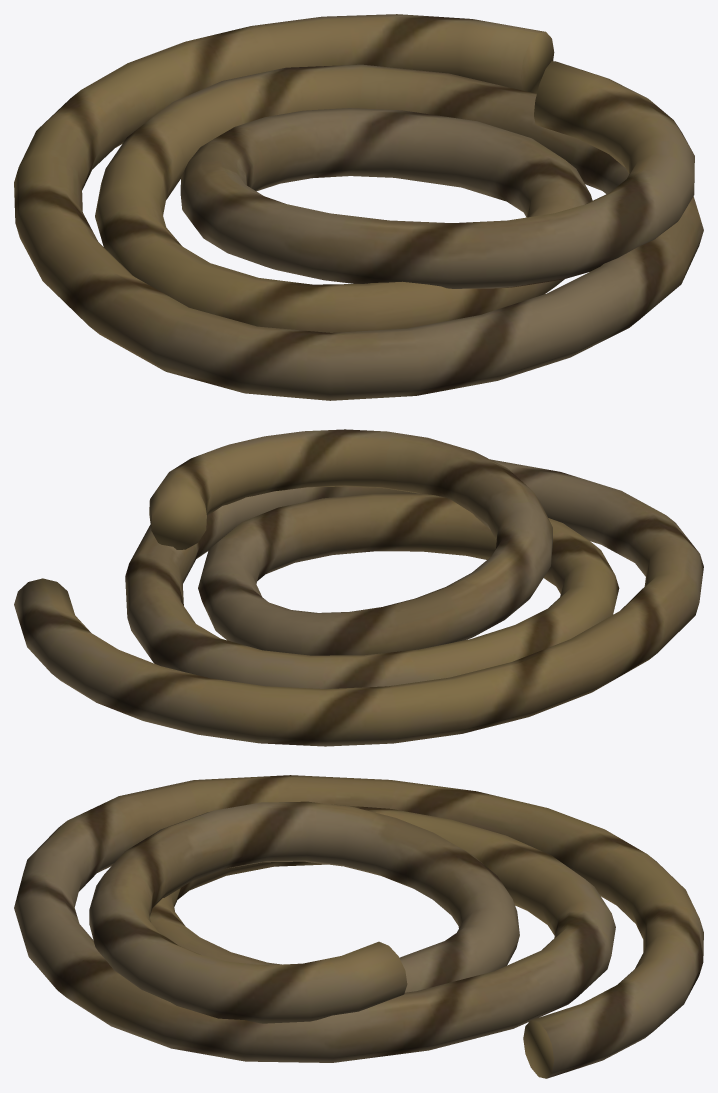
Rendered from rope.glb.
3 renders of one model, top to bottom at view 1: azimuth 30°, elevation 25°; view 2: azimuth 150°, elevation 25°; view 3: azimuth 270°, elevation 25°, orthographic. The views are drawn at different scales.
Visible parts, largest first — view 1: Rope_1.001; view 2: Rope_1.001; view 3: Rope_1.001.
Boxes of the visible parts, bbox=[...] form: Rope_1.001: bbox=[14, 14, 703, 400]; Rope_1.001: bbox=[14, 429, 703, 746]; Rope_1.001: bbox=[14, 775, 703, 1078].
Size of the model in its own units: 0.5574 by 0.0979 by 0.6063.
Materials: 1 (1 with a texture image).
